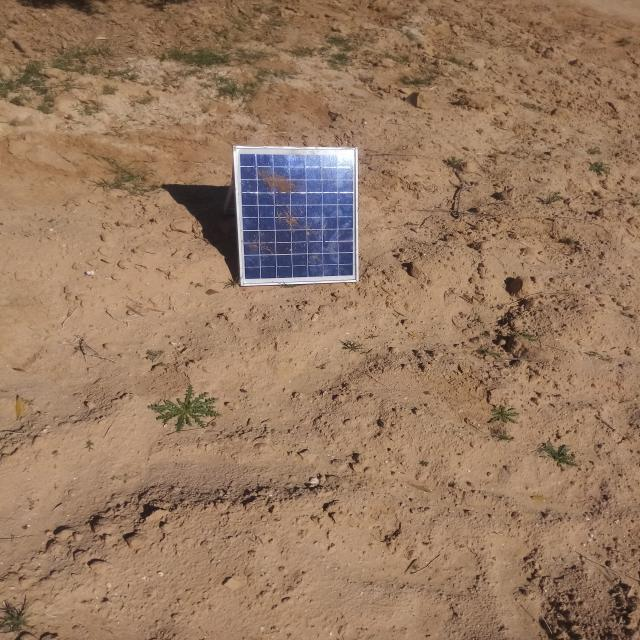faulty: (235, 147, 358, 285)
